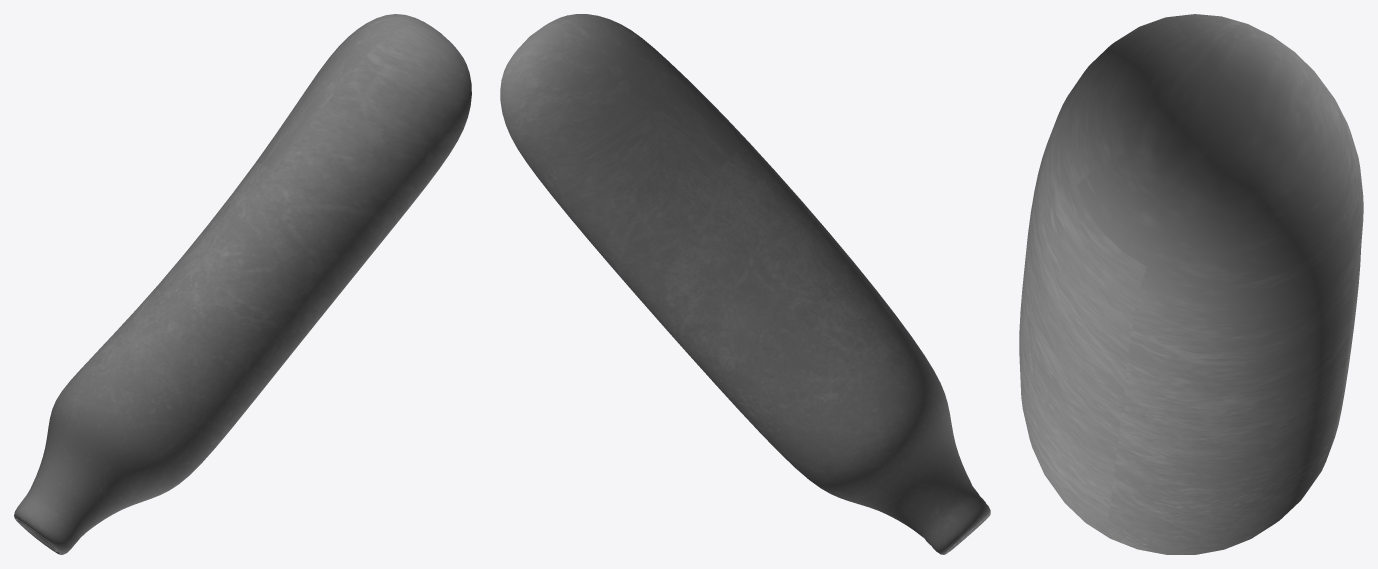
Rendered from GAS18.gltf.
3 views of the same model, side by side, from view 1: azimuth 30°, elevation 25°; view 2: azimuth 150°, elevation 25°; view 3: azimuth 270°, elevation 25° (orthographic). The views are drawn at different scales.
Parts seen in each view (by area): view 1: BezierCurve.003_BezierCurve.004; view 2: BezierCurve.003_BezierCurve.004; view 3: BezierCurve.003_BezierCurve.004.
Boxes of the visible parts, x1=… form: BezierCurve.003_BezierCurve.004: x1=14, y1=14, x2=471, y2=554; BezierCurve.003_BezierCurve.004: x1=500, y1=14, x2=990, y2=554; BezierCurve.003_BezierCurve.004: x1=1019, y1=14, x2=1363, y2=554.
Bounding box in the file's own units: 36.63 × 33.97 × 12.58.
1 material, 1 textured.
